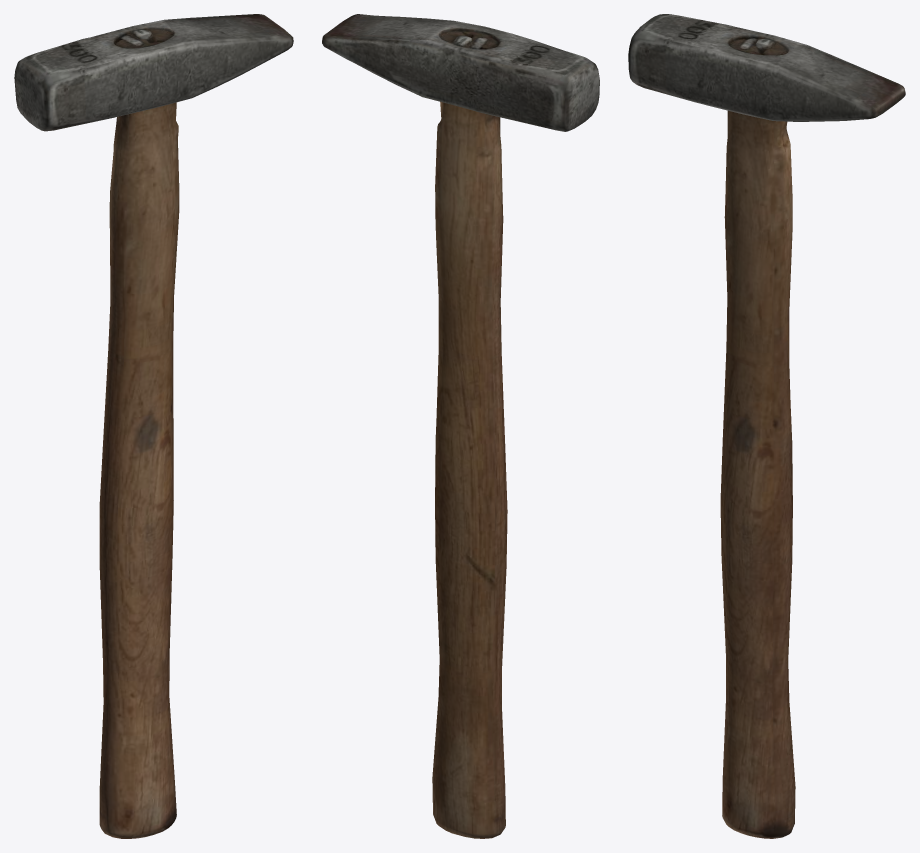
Rendered from hammer.glb.
3 renders of one model, left to right at view 1: azimuth 30°, elevation 25°; view 2: azimuth 150°, elevation 25°; view 3: azimuth 330°, elevation 25°, orthographic.
Parts seen in each view (by area): view 1: cross_pein_hammer; view 2: cross_pein_hammer; view 3: cross_pein_hammer.
Part boxes in pixels (box(x1,y1,x2,y2)): cross_pein_hammer: box(14, 14, 293, 838); cross_pein_hammer: box(322, 14, 599, 838); cross_pein_hammer: box(628, 14, 905, 838).
Bounding box in the file's own units: 0.099 × 0.3001 × 0.0243.
Materials: 1 (1 with a texture image).
